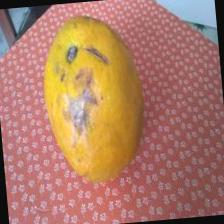Orange Rotten: (34, 0, 160, 198)
